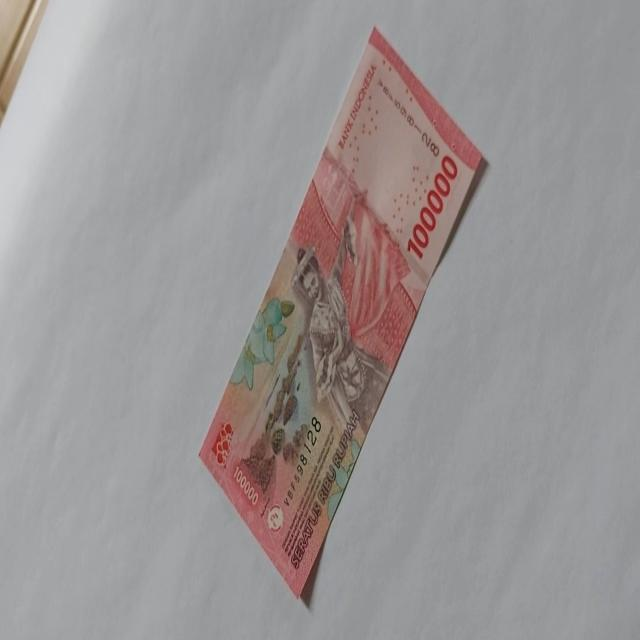seratus ribu rupiah: (197, 25, 486, 599), (290, 214, 368, 438)
